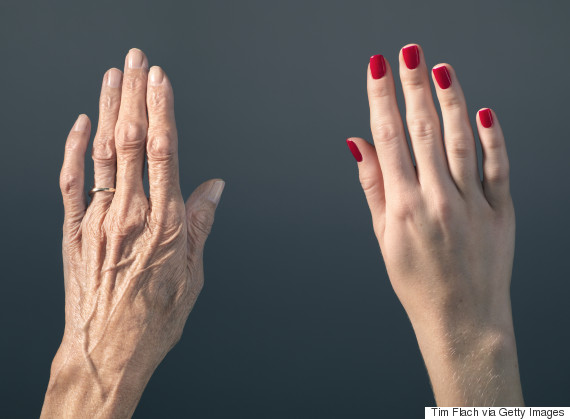finger: (356, 55, 424, 196), (394, 41, 455, 191), (428, 64, 486, 201), (143, 62, 187, 208), (116, 36, 148, 198), (473, 107, 517, 211), (91, 64, 121, 204), (61, 112, 95, 229)
